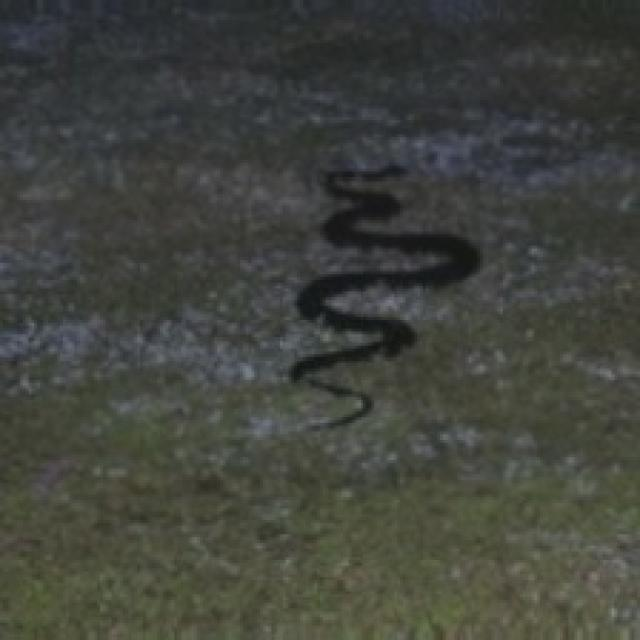king cobra: (289, 166, 477, 426)
